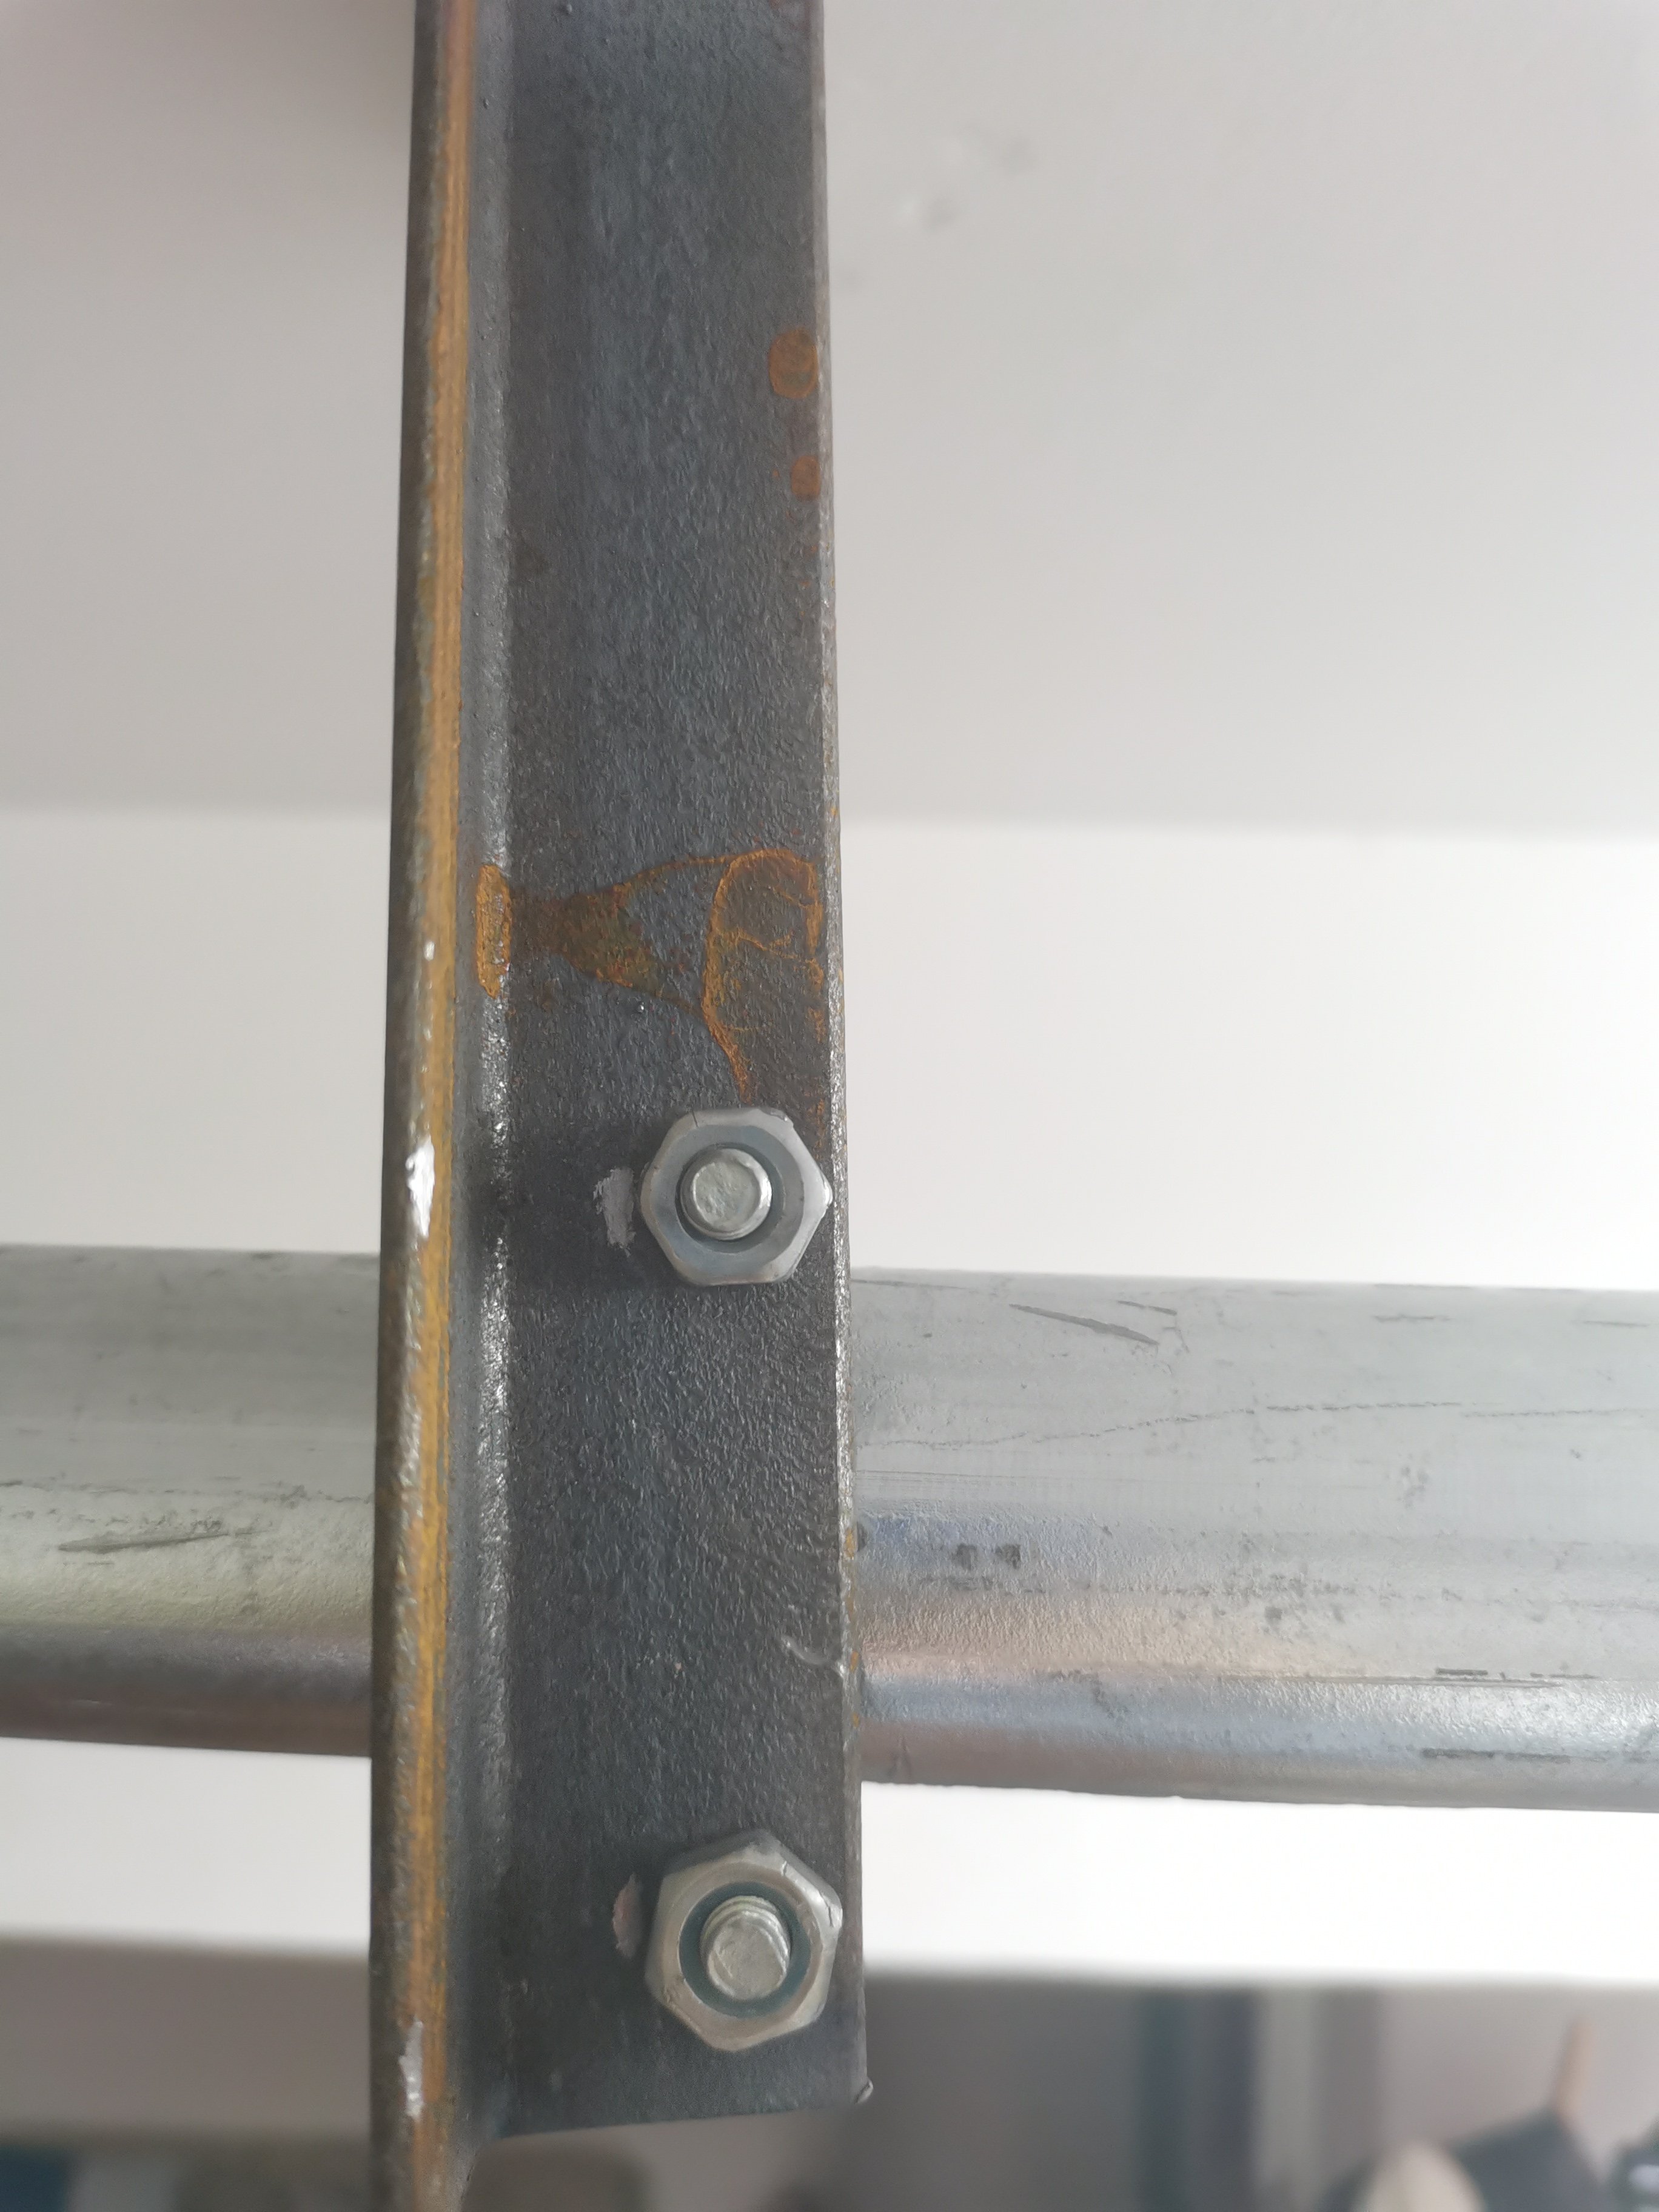bolt_b: (631, 1824, 852, 2062), (629, 1099, 843, 1301)
